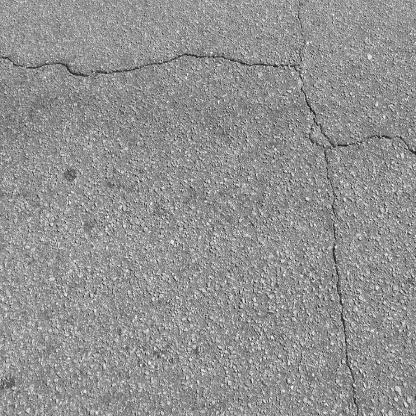Cracks: (0, 52, 303, 88), (301, 91, 416, 157), (334, 288, 364, 416), (320, 162, 345, 285), (295, 0, 309, 54)
